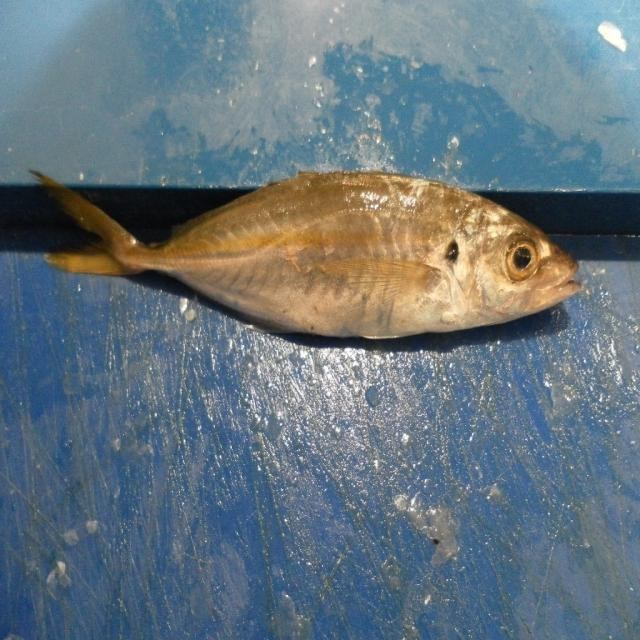Hourse-Mackerel-istavrit-: (12, 150, 581, 344)
